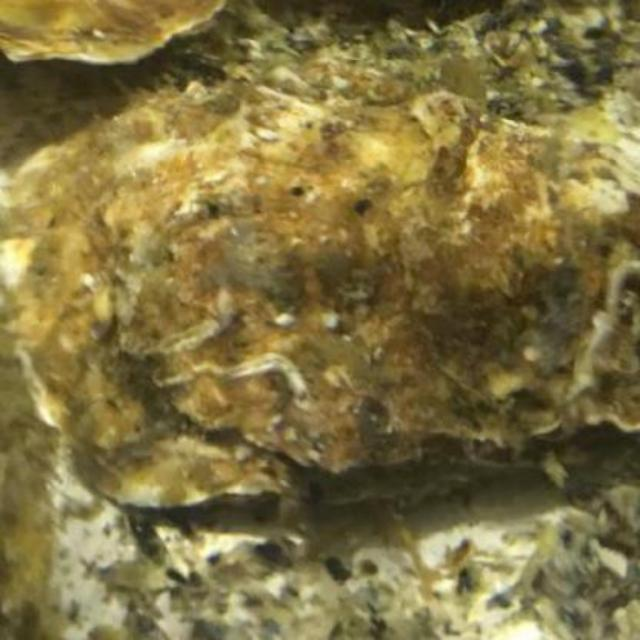Oyster-Closed: (46, 99, 640, 510), (0, 0, 219, 69)
